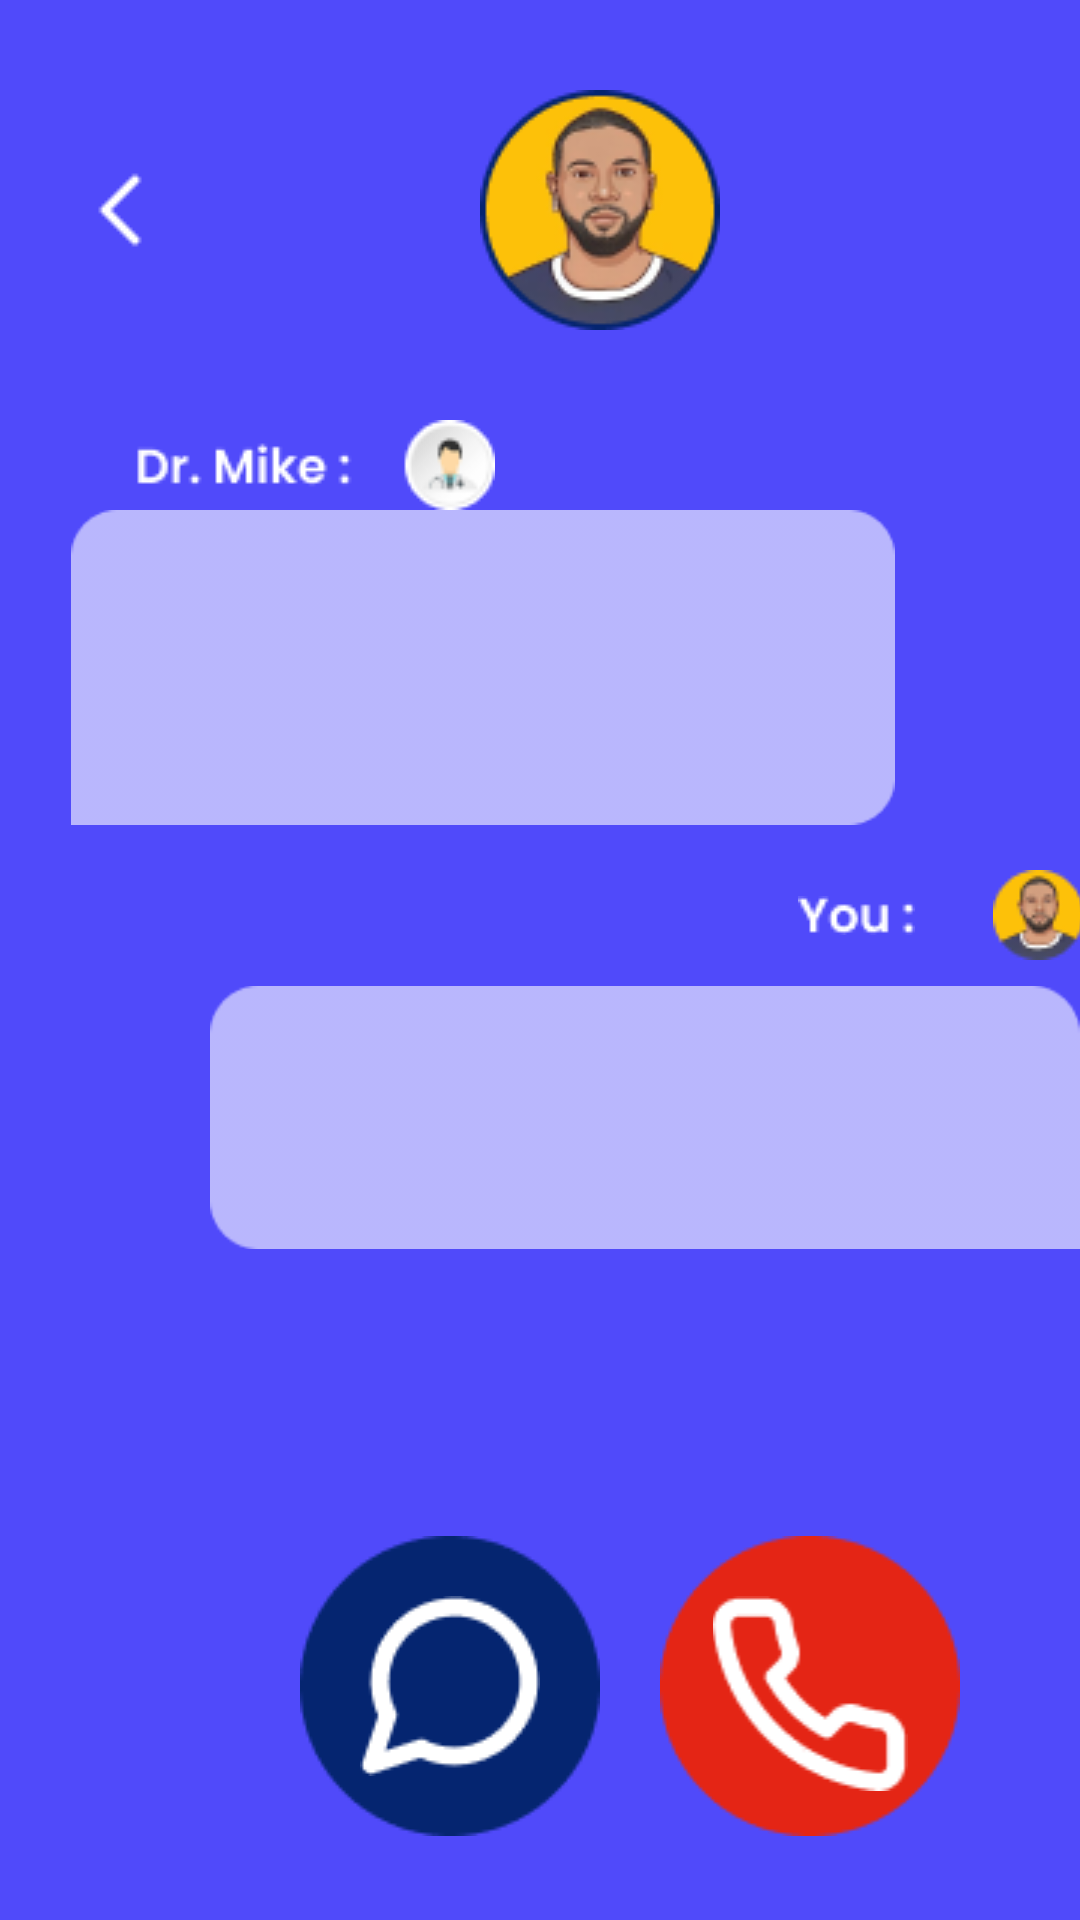

Icon click points for this 1080px×1920px phone screenshot, format (x,y):
chevronleft: (120,210)
